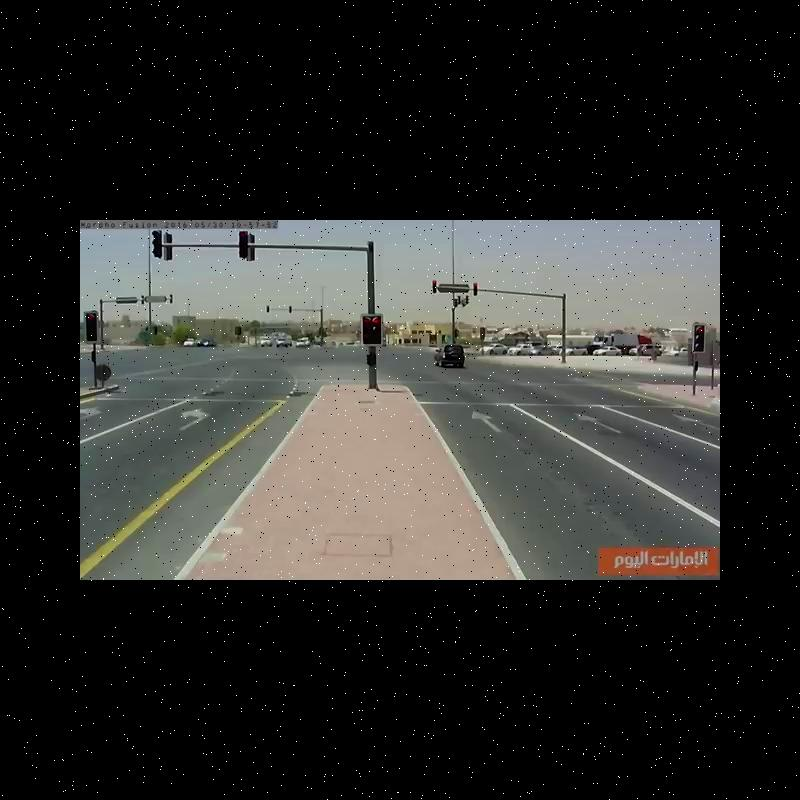car: (433, 344, 467, 371), (631, 342, 661, 356), (481, 342, 508, 356), (560, 344, 586, 358), (595, 345, 623, 357), (507, 344, 538, 354), (276, 335, 294, 350), (295, 335, 310, 349), (196, 338, 216, 347), (261, 338, 273, 350), (182, 338, 197, 347)
